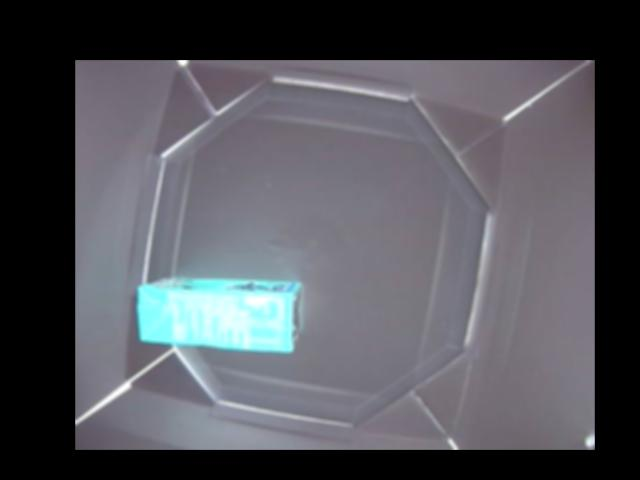Bottle: (135, 267, 303, 353)
